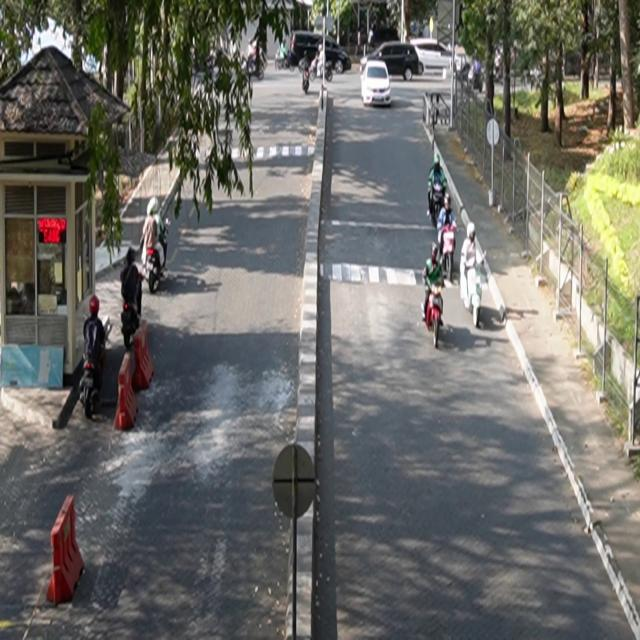car: (361, 60, 392, 107)
